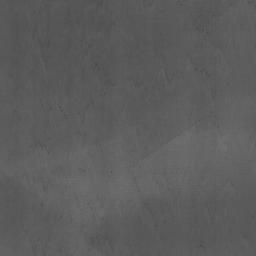Silk spot: (191, 57, 211, 78), (88, 232, 112, 247), (29, 140, 50, 155), (38, 177, 53, 192), (193, 20, 209, 34), (142, 199, 155, 216), (128, 78, 144, 88), (38, 38, 50, 48), (211, 84, 217, 100), (104, 79, 115, 86)
